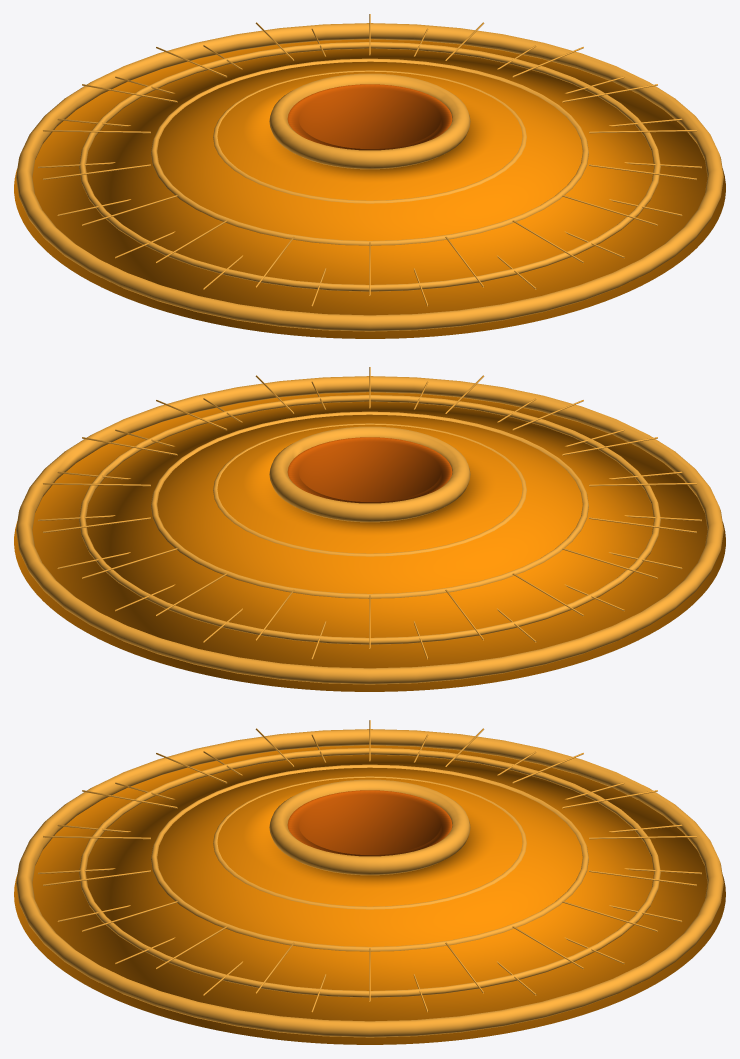
The model's file is Markierungsteller_3D.glb.
3 renders of one model, top to bottom at view 1: azimuth 30°, elevation 25°; view 2: azimuth 150°, elevation 25°; view 3: azimuth 270°, elevation 25°, orthographic.
Visible parts, largest first — view 1: Markierungsteller_3D__web_glossy_orange_marker_disc_saucer, Markierungsteller_3D__web_raised_lighter_orange_marker_disc_, Markierungsteller_3D__web_darker_orange_marker_disc_inner_wa; view 2: Markierungsteller_3D__web_glossy_orange_marker_disc_saucer, Markierungsteller_3D__web_raised_lighter_orange_marker_disc_, Markierungsteller_3D__web_darker_orange_marker_disc_inner_wa; view 3: Markierungsteller_3D__web_glossy_orange_marker_disc_saucer, Markierungsteller_3D__web_raised_lighter_orange_marker_disc_, Markierungsteller_3D__web_darker_orange_marker_disc_inner_wa.
Boxes of the visible parts, <box> form: Markierungsteller_3D__web_glossy_orange_marker_disc_saucer: <box>14,39,725,338</box>; Markierungsteller_3D__web_raised_lighter_orange_marker_disc_: <box>16,14,723,331</box>; Markierungsteller_3D__web_darker_orange_marker_disc_inner_wa: <box>287,84,452,150</box>; Markierungsteller_3D__web_glossy_orange_marker_disc_saucer: <box>14,392,725,691</box>; Markierungsteller_3D__web_raised_lighter_orange_marker_disc_: <box>16,367,723,684</box>; Markierungsteller_3D__web_darker_orange_marker_disc_inner_wa: <box>287,437,452,503</box>; Markierungsteller_3D__web_glossy_orange_marker_disc_saucer: <box>14,745,725,1044</box>; Markierungsteller_3D__web_raised_lighter_orange_marker_disc_: <box>16,720,723,1037</box>; Markierungsteller_3D__web_darker_orange_marker_disc_inner_wa: <box>287,790,452,856</box>.
Size of the model in its own units: 1.04 by 0.1213 by 1.04.
